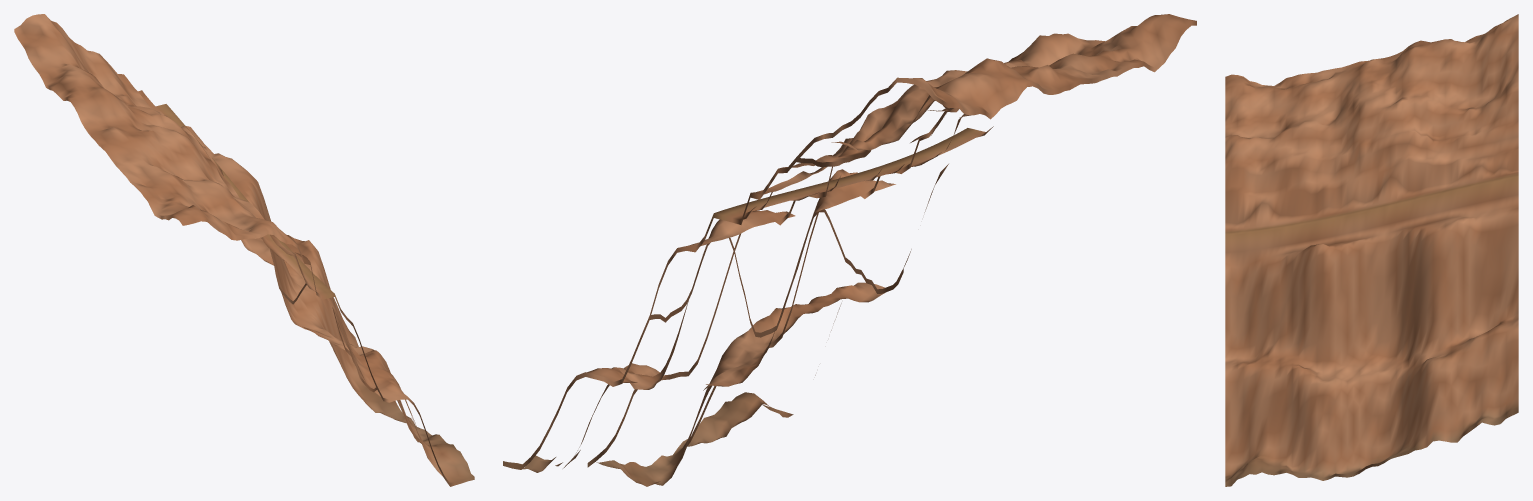
File: terrain-064.glb
3 renders of one model, left to right at view 1: azimuth 30°, elevation 25°; view 2: azimuth 150°, elevation 25°; view 3: azimuth 270°, elevation 25°, orthographic. The views are drawn at different scales.
Parts seen in each view (by area): view 1: terrain-064; view 2: terrain-064; view 3: terrain-064.
Boxes of the visible parts, x1=… form: terrain-064: x1=14, y1=14, x2=474, y2=486; terrain-064: x1=503, y1=14, x2=1196, y2=486; terrain-064: x1=1225, y1=14, x2=1518, y2=486.
Bounding box in the file's own units: 384 × 515 × 384.
